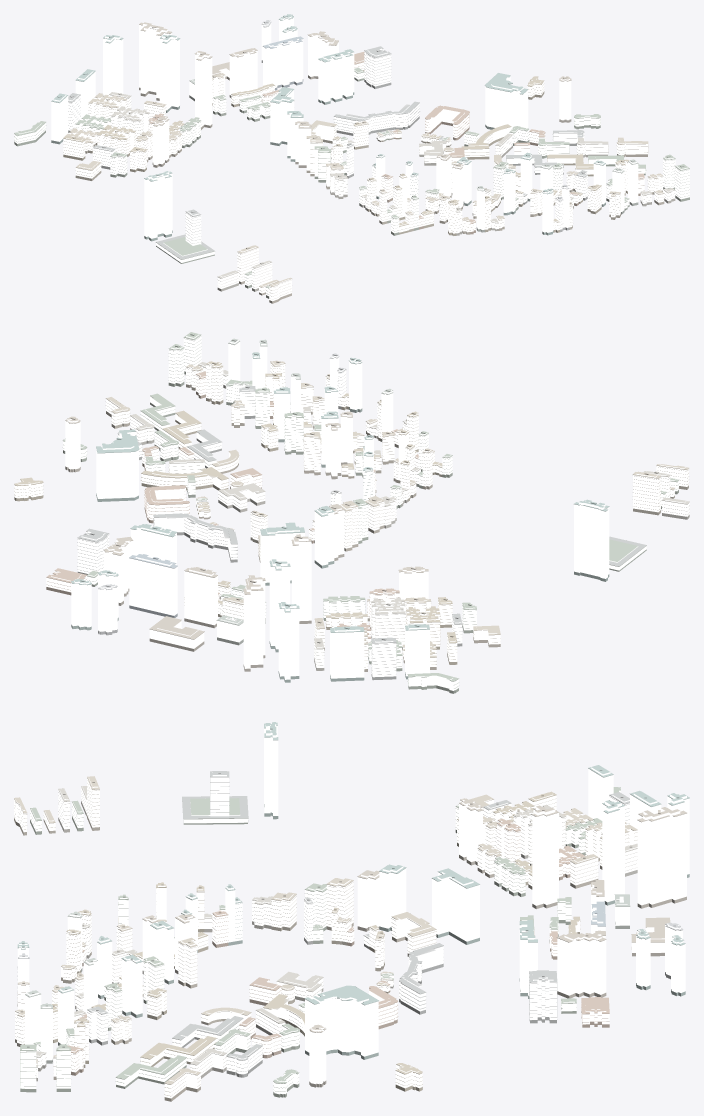
The model's file is buildings--6_1-fine.glb.
3 views of the same model, one above another, from view 1: azimuth 30°, elevation 25°; view 2: azimuth 150°, elevation 25°; view 3: azimuth 270°, elevation 25° (orthographic). The views are drawn at different scales.
Visible parts, largest first — view 1: block_-6_1_residential, block_-6_1_office, block_-6_1_roof, block_-6_1_darkglass, block_-6_1_concrete, block_-6_1_steel; view 2: block_-6_1_office, block_-6_1_residential, block_-6_1_roof, block_-6_1_darkglass, block_-6_1_concrete, block_-6_1_steel; view 3: block_-6_1_office, block_-6_1_residential, block_-6_1_roof, block_-6_1_darkglass, block_-6_1_concrete, block_-6_1_steel.
Boxes of the visible parts, box(x1,y1,x2,y2) form: block_-6_1_residential: box(14, 48, 689, 301); block_-6_1_office: box(51, 15, 638, 238); block_-6_1_roof: box(14, 14, 689, 299); block_-6_1_darkglass: box(14, 60, 689, 303); block_-6_1_concrete: box(14, 48, 689, 296); block_-6_1_steel: box(51, 15, 637, 194); block_-6_1_office: box(65, 340, 609, 679); block_-6_1_residential: box(14, 334, 689, 690); block_-6_1_roof: box(14, 332, 689, 688); block_-6_1_darkglass: box(14, 371, 689, 693); block_-6_1_concrete: box(14, 335, 689, 688); block_-6_1_steel: box(65, 341, 609, 639); block_-6_1_office: box(17, 724, 689, 1084); block_-6_1_residential: box(14, 772, 637, 1098); block_-6_1_roof: box(14, 722, 689, 1095); block_-6_1_darkglass: box(14, 801, 689, 1101); block_-6_1_concrete: box(14, 777, 637, 1096); block_-6_1_steel: box(18, 725, 689, 1032).
Bounding box in the file's own units: 680 × 101 × 645.
